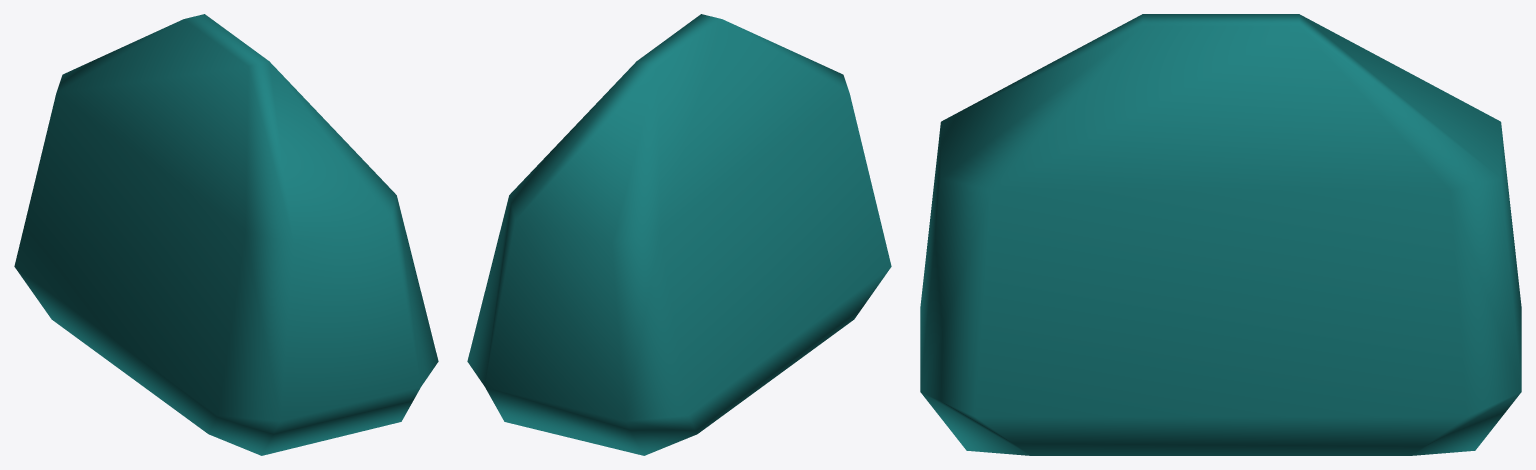
File: sports_bag_collider.fbx
3 renders of one model, left to right at view 1: azimuth 30°, elevation 25°; view 2: azimuth 150°, elevation 25°; view 3: azimuth 270°, elevation 25°, orthographic. The views are drawn at different scales.
Parts seen in each view (by area): view 1: sports_bag_collider; view 2: sports_bag_collider; view 3: sports_bag_collider.
Boxes of the visible parts, bbox=[...] form: sports_bag_collider: bbox=[14, 14, 438, 455]; sports_bag_collider: bbox=[467, 14, 891, 455]; sports_bag_collider: bbox=[920, 14, 1521, 455].
Size of the model in its own units: 28.7 by 39.95 by 55.95.
